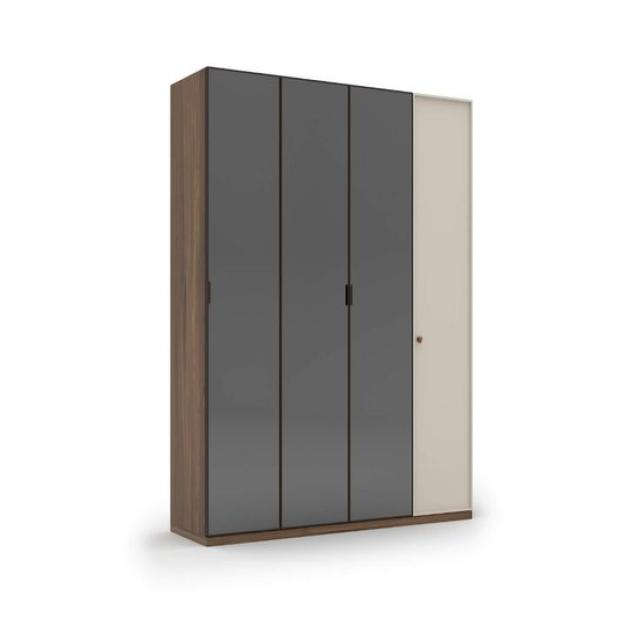obstacle: (169, 64, 472, 546)
